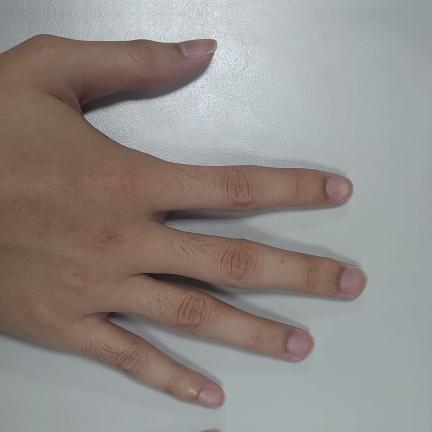Nail: (326, 174, 354, 202), (341, 267, 368, 295), (288, 331, 315, 359), (178, 38, 217, 56), (198, 388, 225, 408), (203, 430, 220, 432)
